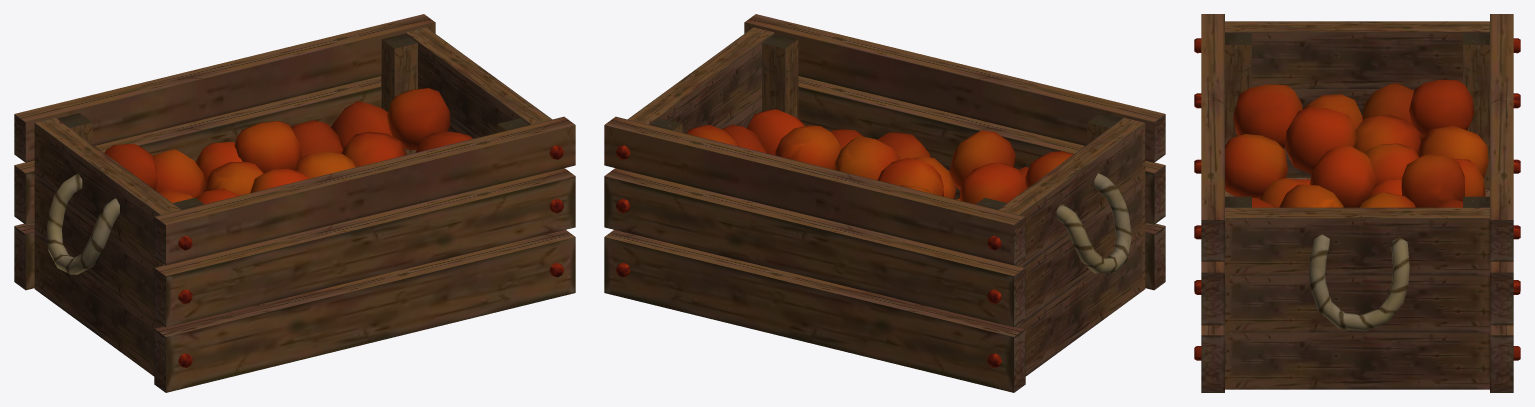
File: FarmCrate_Oranges_Worn.glb
3 views of the same model, side by side, from view 1: azimuth 30°, elevation 25°; view 2: azimuth 150°, elevation 25°; view 3: azimuth 270°, elevation 25° (orthographic). The views are drawn at different scales.
Visible parts, largest first — view 1: FarmCrate_Oranges; view 2: FarmCrate_Oranges; view 3: FarmCrate_Oranges.
Part boxes in pixels (x1,y1,x2,y2): FarmCrate_Oranges: (14,14,575,392); FarmCrate_Oranges: (604,14,1165,392); FarmCrate_Oranges: (1194,14,1520,392).
Bounding box in the file's own units: 0.7138 × 0.2438 × 0.4142.
Materials: 3 (3 with a texture image).
